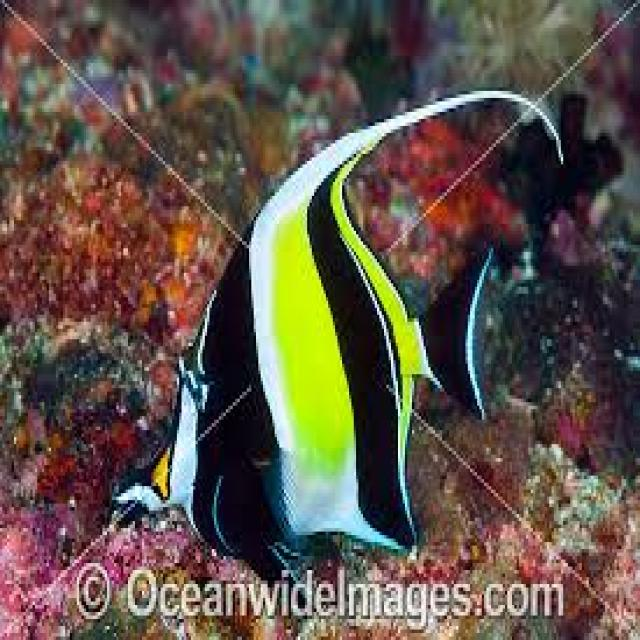MorishIdol: (99, 83, 566, 597)
